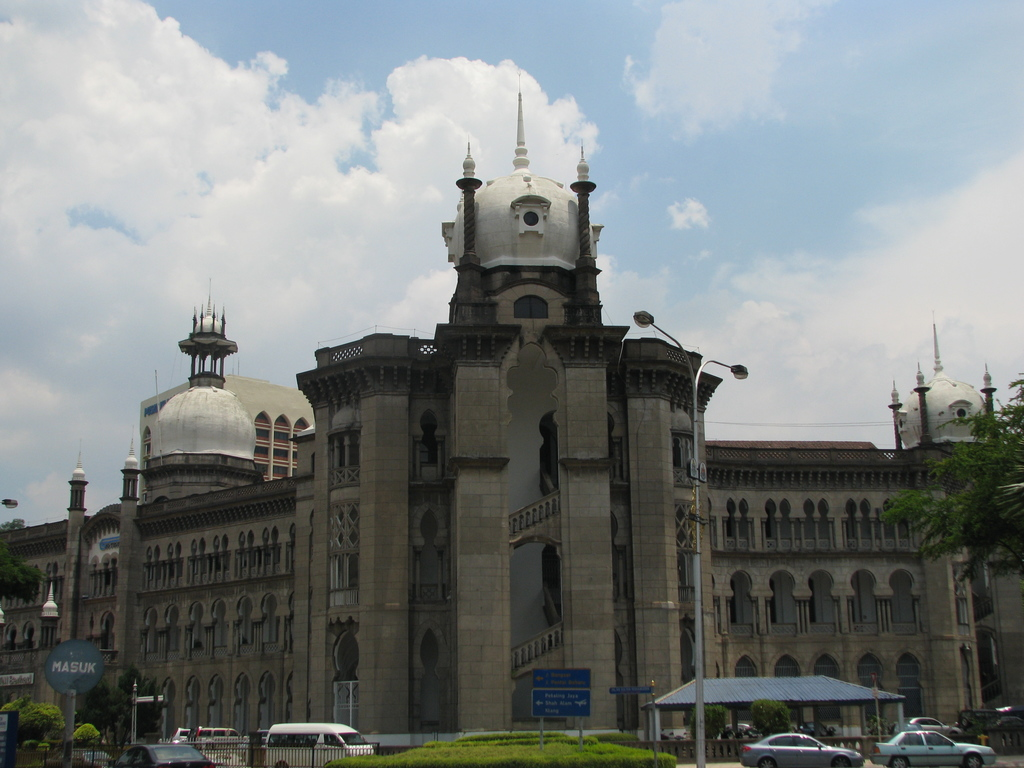Car: (876, 728, 993, 767), (739, 732, 864, 767), (116, 739, 215, 767), (985, 716, 1023, 755), (193, 726, 247, 752), (899, 718, 955, 737), (76, 753, 114, 767), (172, 728, 193, 743)
